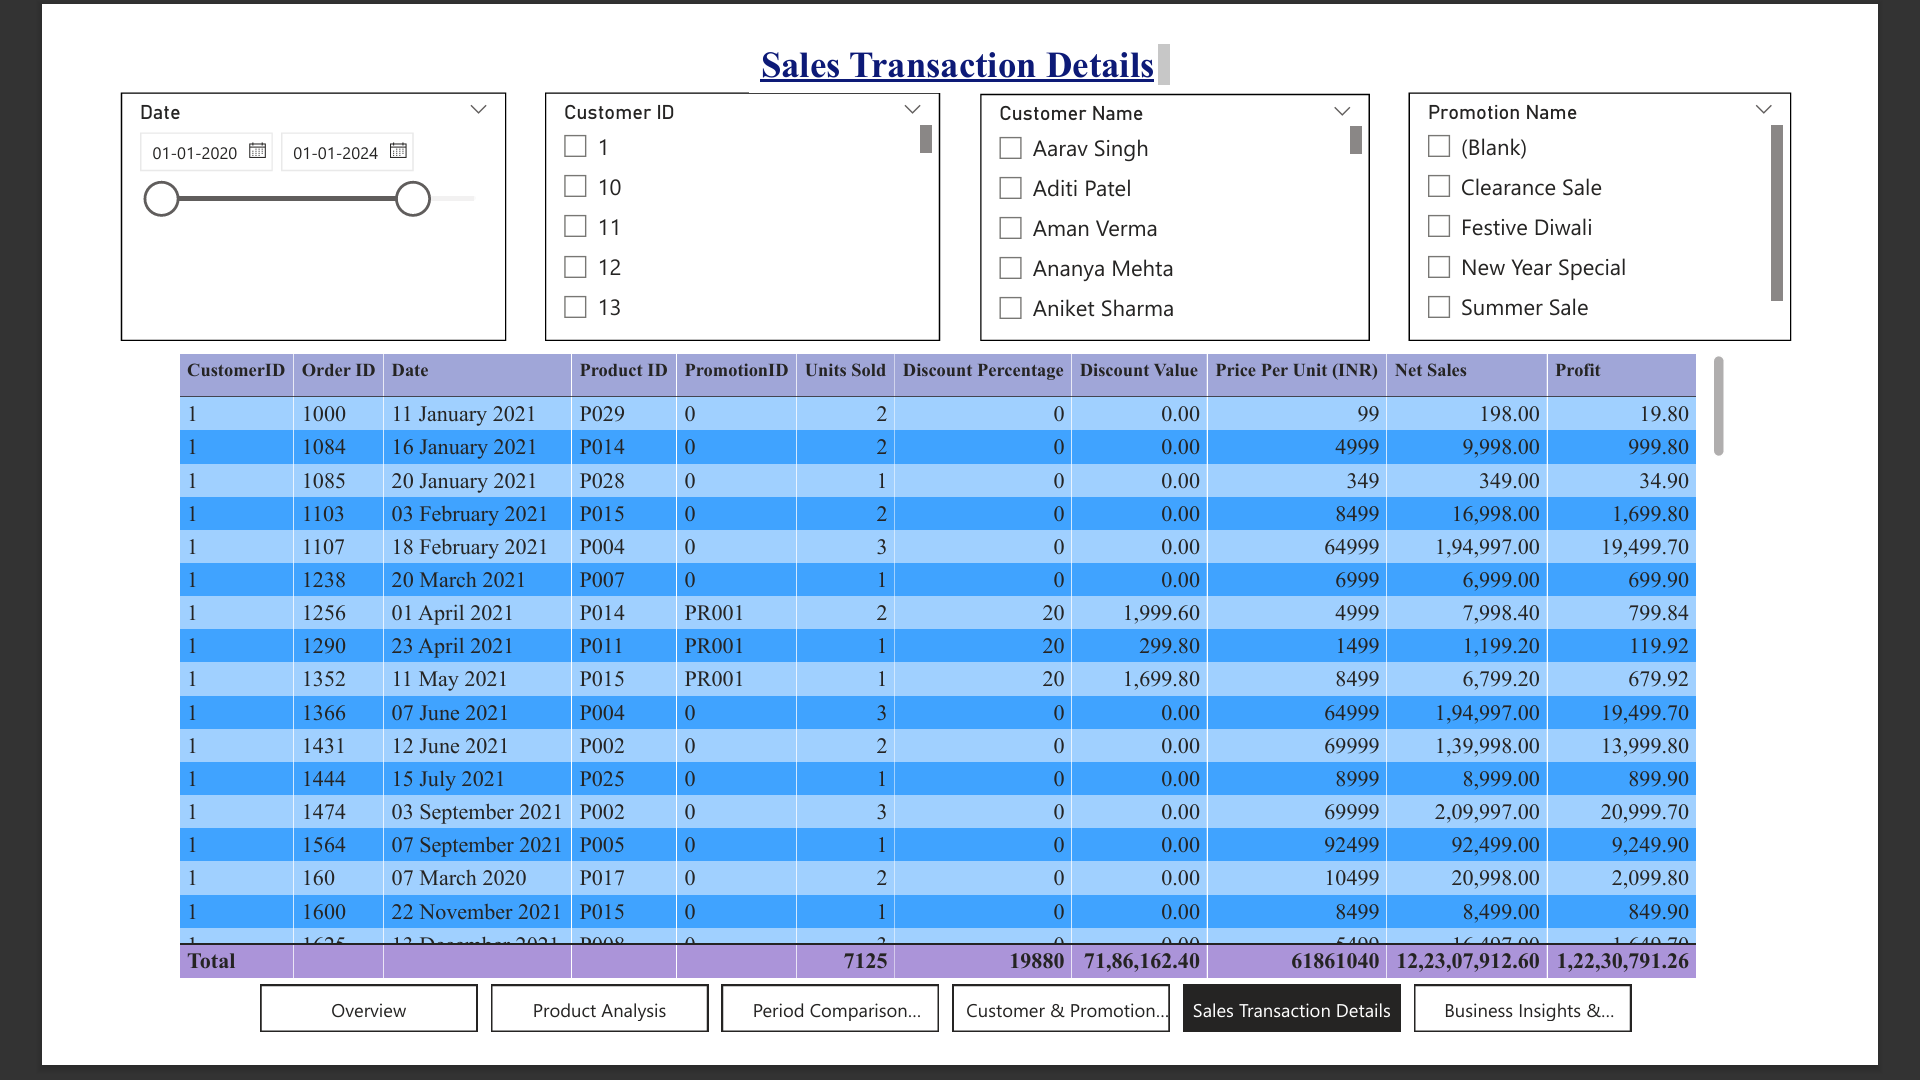

What the dashboard file says about the page in this screenshot:
{"tool":"powerbi","page":{"name":"Sales Transaction Details","canvas":[1280,720],"ordinal":4},"visuals":[{"type":"slicer","fields":{"Values":["Date Table 1.Date"]},"box":[33,40,278.6,179.8],"z":0},{"type":"tableEx","fields":{"Values":["Fact Table.CustomerID","Fact Table.Order ID","Fact Table.Date (dd/mm/yyyy)","Fact Table.Product ID","Fact Table.PromotionID","Sum(Fact Table.Units Sold)","Sum(Fact Table.Discount Percentage)","Sum(Fact Table.Discount Value)","Sum(Fact Table.Price Per Unit (INR))","Sum(Fact Table.Net Sales  )","Sum(Fact Table.Profit)"]},"box":[70,225,1129.3,461.1],"z":1000},{"type":"slicer","fields":{"Values":["Dim Customers.Customer ID"]},"box":[340.3,40,285.4,179.8],"z":2000},{"type":"slicer","fields":{"Values":["Dim Customers.Customer Name"]},"box":[654.6,41.4,282.7,178.4],"z":3000},{"type":"slicer","fields":{"Values":["Dim Promotion.Promotion Name"]},"box":[964.7,40,277.2,179.8],"z":4000},{"type":"pageNavigator","box":[134.5,686.1,994.9,34.3],"z":5000},{"type":"textbox","box":[488.3,0,308.3,40],"z":6000}]}

Visuals, with their boxes in screenshot pixels (x1, y1, x2, y2), scaled from the page's 1280x720 canvas onto the 1920x1080 screenshot:
slicer - Date Table 1.Date: pyautogui.locateOnScreen(50, 60, 467, 330)
tableEx - Fact Table.CustomerID x Fact Table.Order ID: pyautogui.locateOnScreen(105, 338, 1799, 1029)
slicer - Dim Customers.Customer ID: pyautogui.locateOnScreen(510, 60, 939, 330)
slicer - Dim Customers.Customer Name: pyautogui.locateOnScreen(982, 62, 1406, 330)
slicer - Dim Promotion.Promotion Name: pyautogui.locateOnScreen(1447, 60, 1863, 330)
pageNavigator: pyautogui.locateOnScreen(202, 1029, 1694, 1079)
textbox: pyautogui.locateOnScreen(732, 0, 1195, 60)
